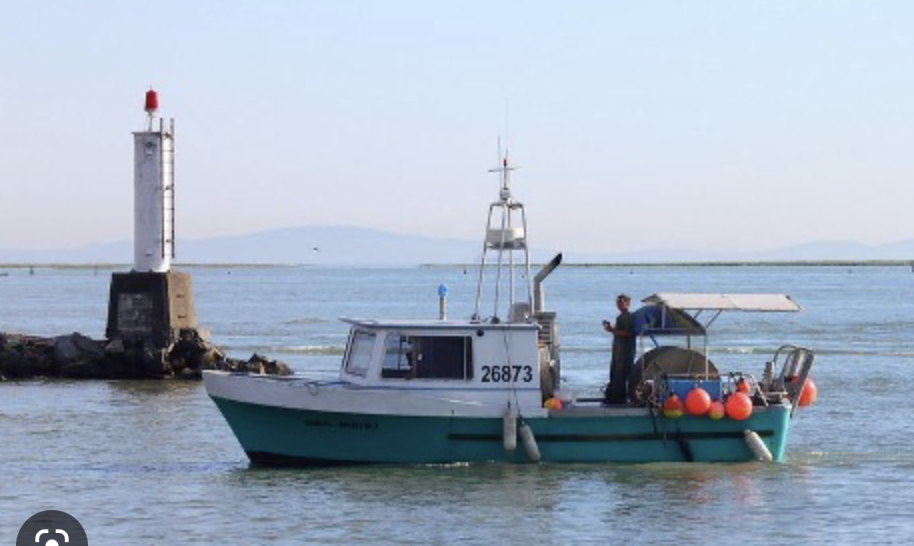ship: (189, 198, 824, 467)
